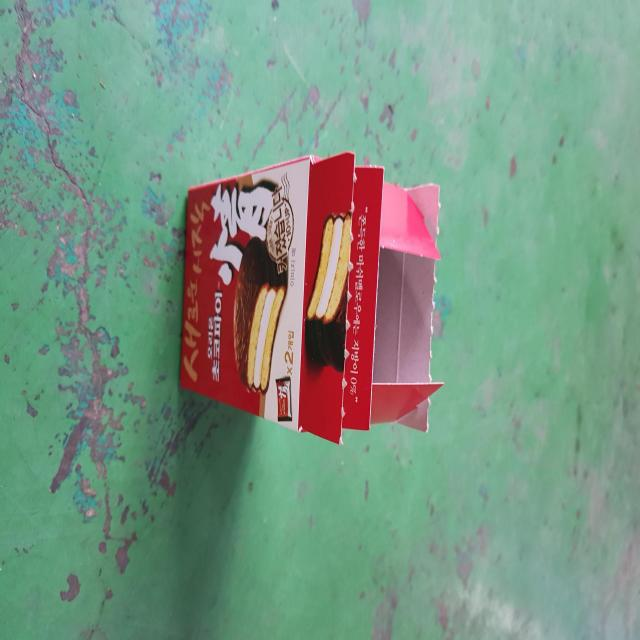paperpack: (180, 152, 442, 444)
